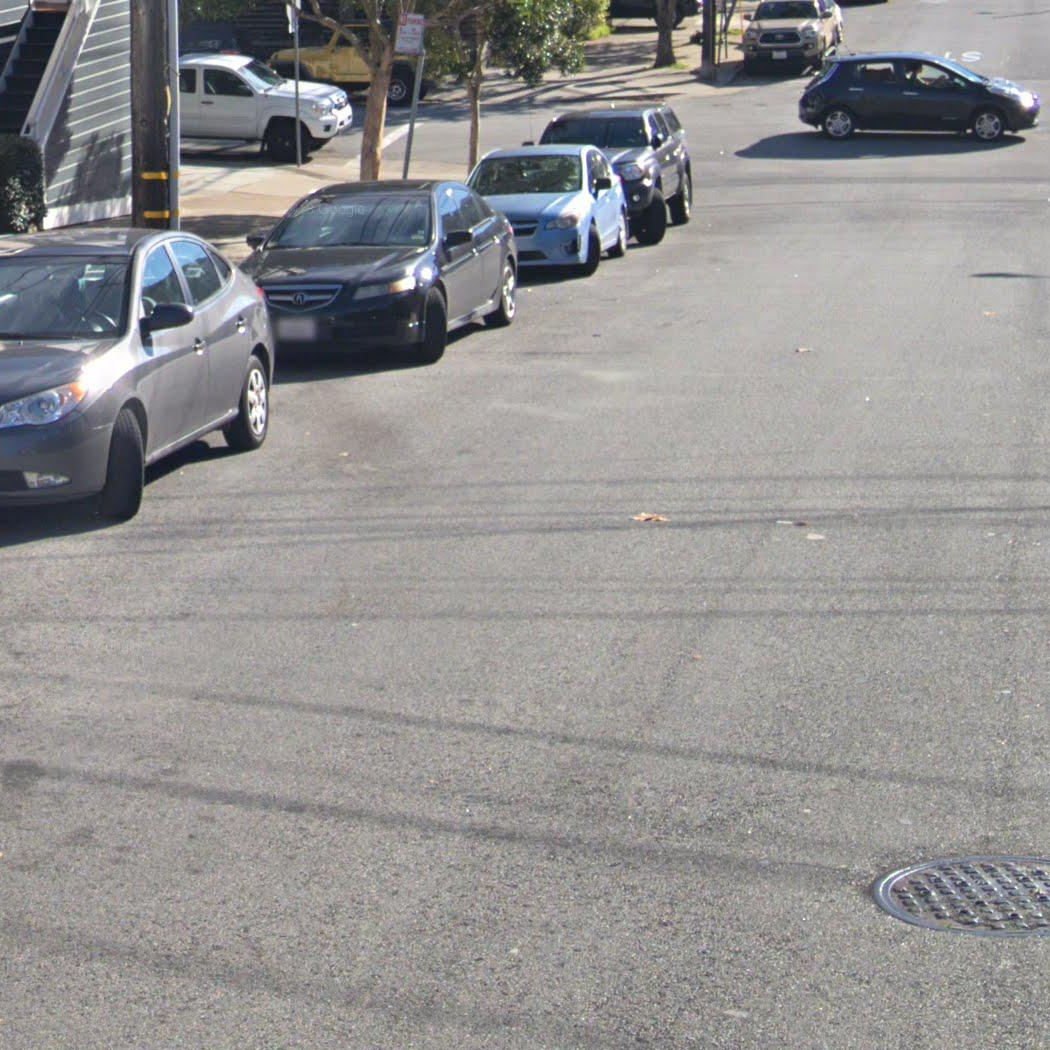No Parking: (392, 11, 427, 56)
